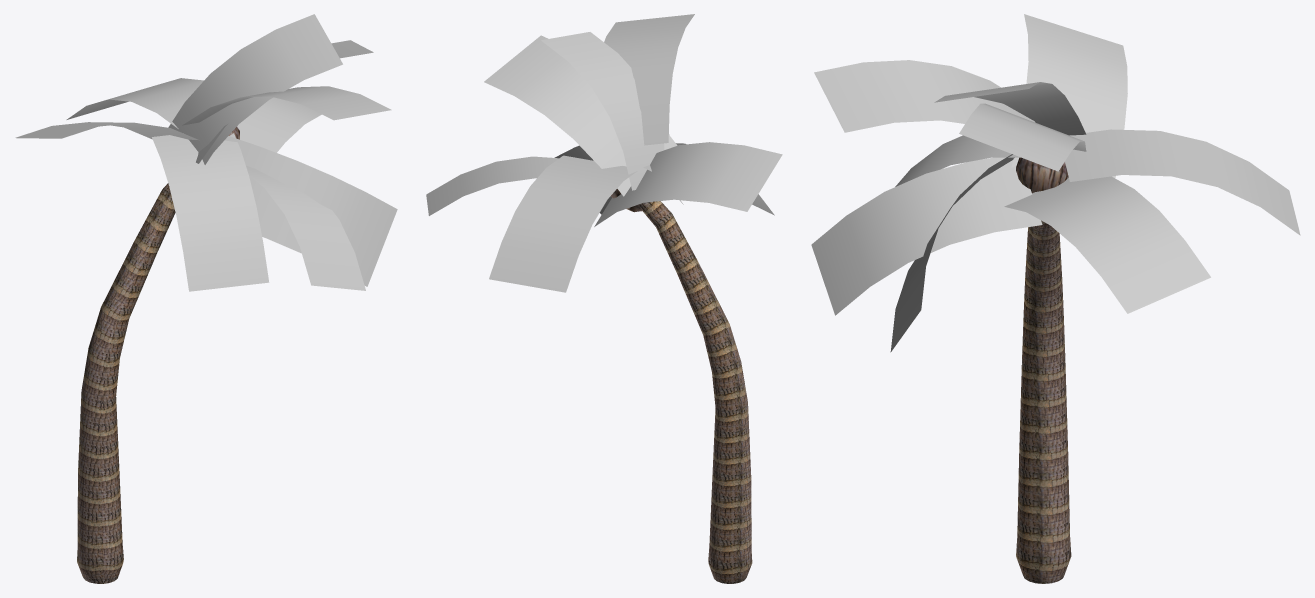
The model's file is Coconut_tree_1.fbx.
3 renders of one model, left to right at view 1: azimuth 30°, elevation 25°; view 2: azimuth 150°, elevation 25°; view 3: azimuth 270°, elevation 25°, orthographic. The views are drawn at different scales.
Visible parts, largest first — view 1: Coconut_tree_1; view 2: Coconut_tree_1; view 3: Coconut_tree_1.
Part boxes in pixels (x1,y1,x2,y2): Coconut_tree_1: [15, 14, 397, 583]; Coconut_tree_1: [426, 14, 782, 583]; Coconut_tree_1: [811, 14, 1300, 583].
Bounding box in the file's own units: 2226 × 3227 × 2365.
